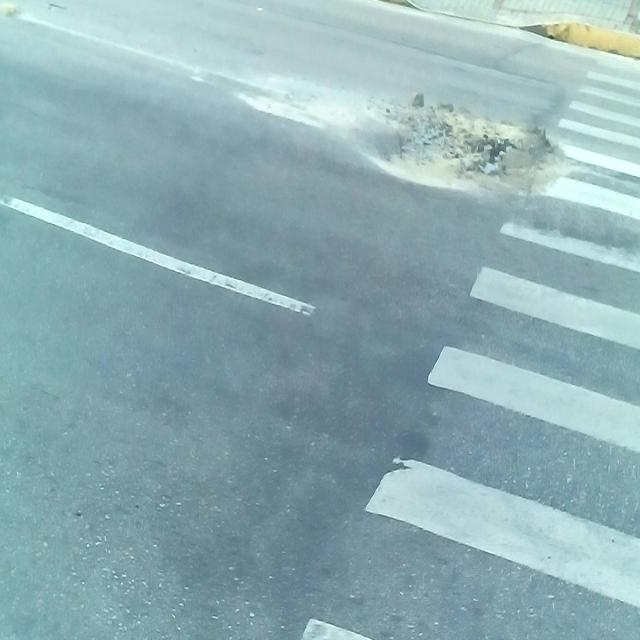crosswalk: (259, 49, 640, 640)
